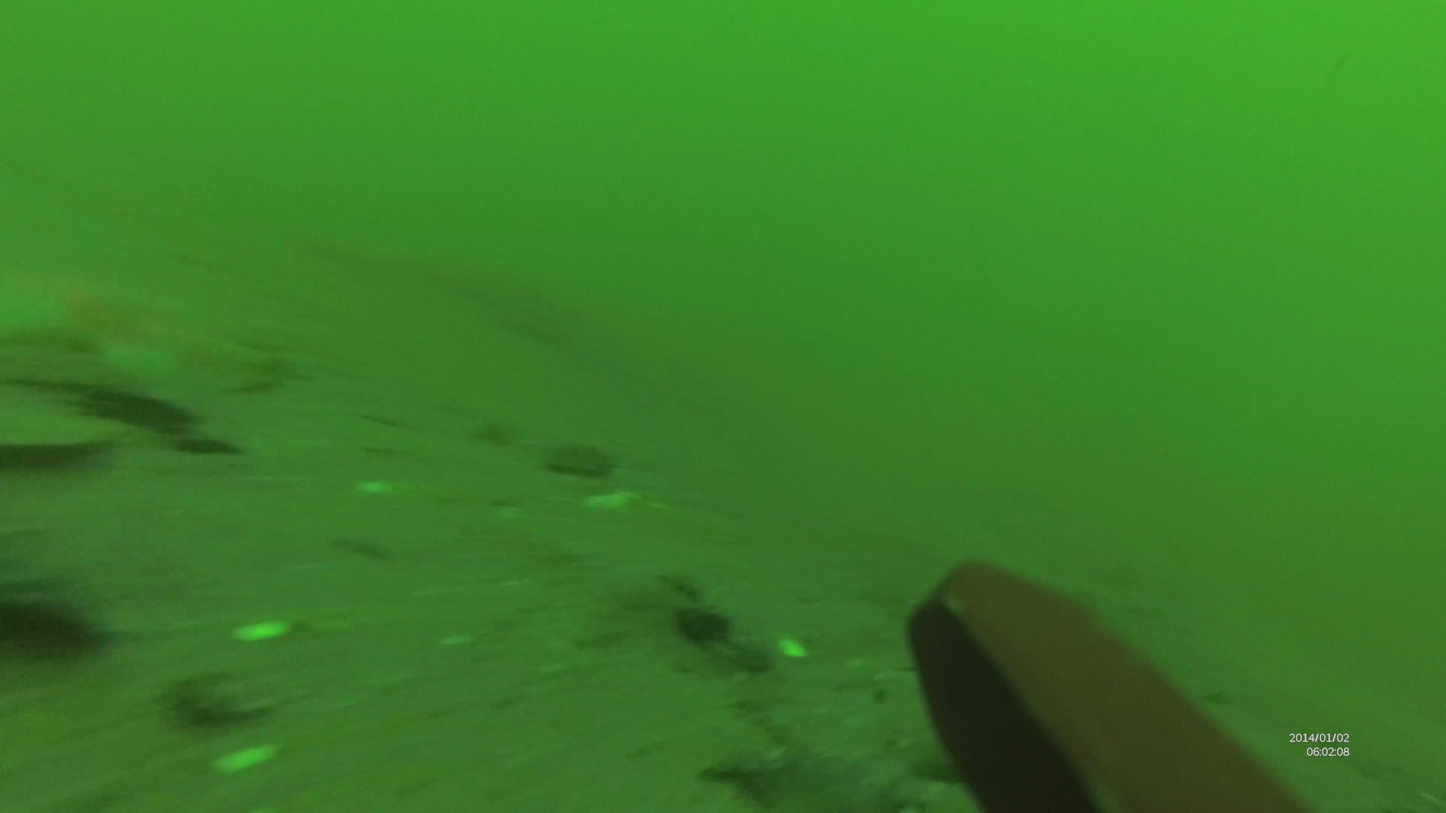starfish: (674, 606, 731, 641)
